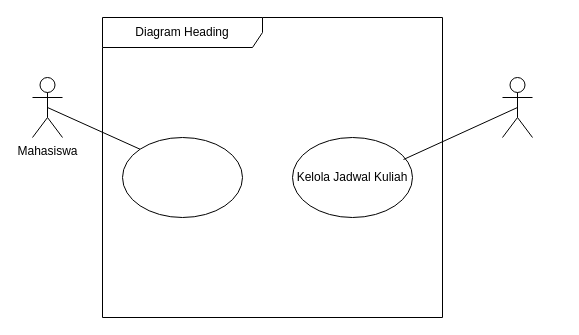
This 579x335 diagram has some shape labels left out. Here are the shapes that lost their labels. From the top down, the centre of each, then its label:
(x=517, y=107): Admin Akademik
(x=182, y=177): Lihat Jadwal Kuliah
